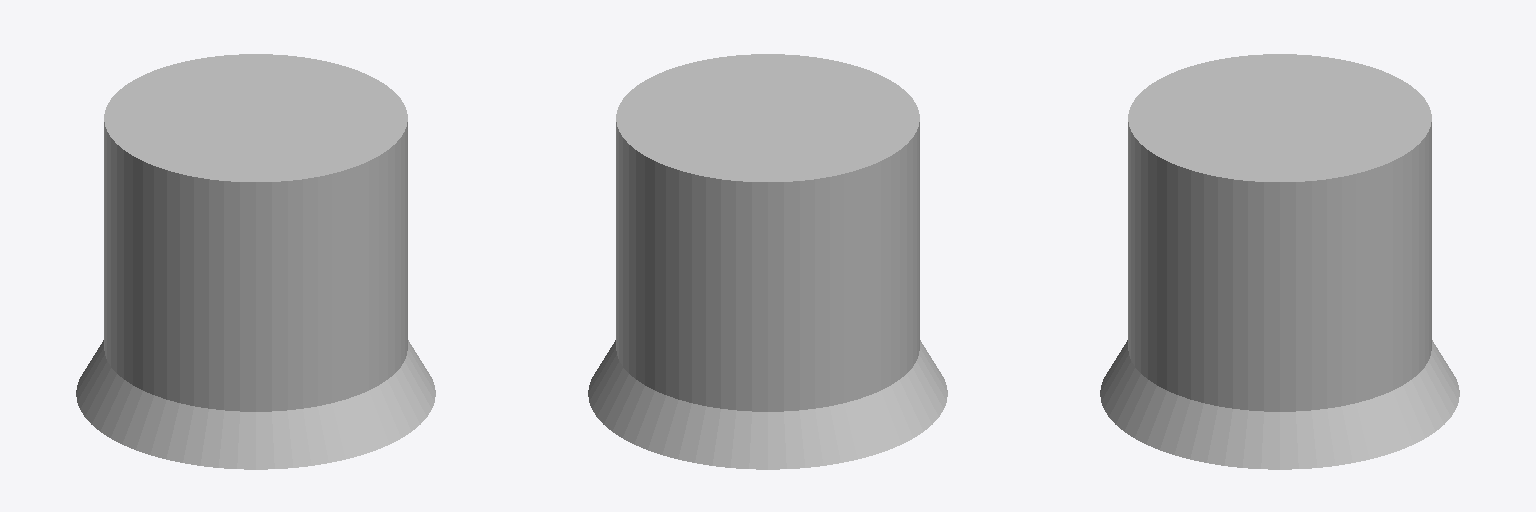
File: soyuzbottom.obj
3 views of the same model, side by side, from view 1: azimuth 30°, elevation 25°; view 2: azimuth 150°, elevation 25°; view 3: azimuth 270°, elevation 25° (orthographic).
Parts seen in each view (by area): view 1: Cylinder1; view 2: Cylinder1; view 3: Cylinder1.
Boxes of the visible parts, <box> form: Cylinder1: <box>76,54,435,469</box>; Cylinder1: <box>588,54,947,469</box>; Cylinder1: <box>1100,54,1459,469</box>.
Bounding box in the file's own units: 7.1 × 6 × 7.1.